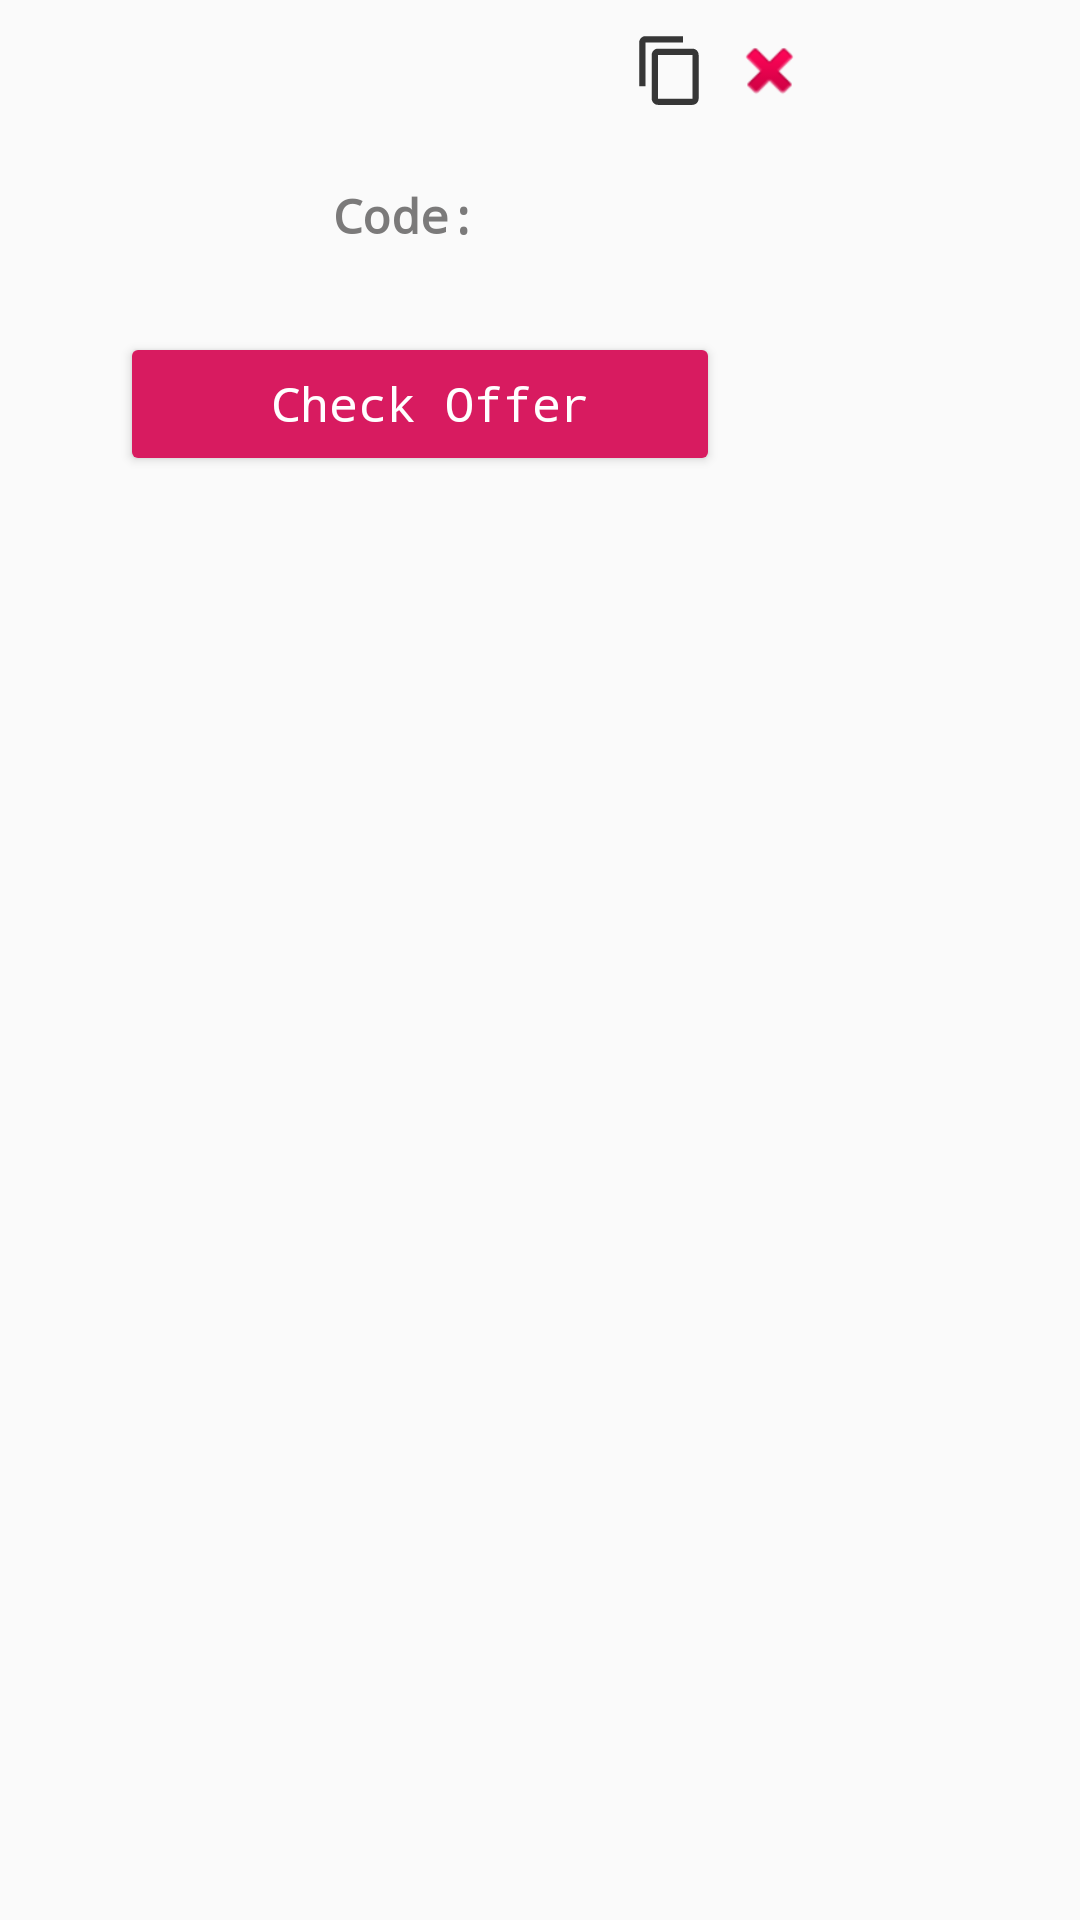

Named icons in this screenshot (1080w x 1920h) and their centers, point (x, y):
delete: point (769, 71)
